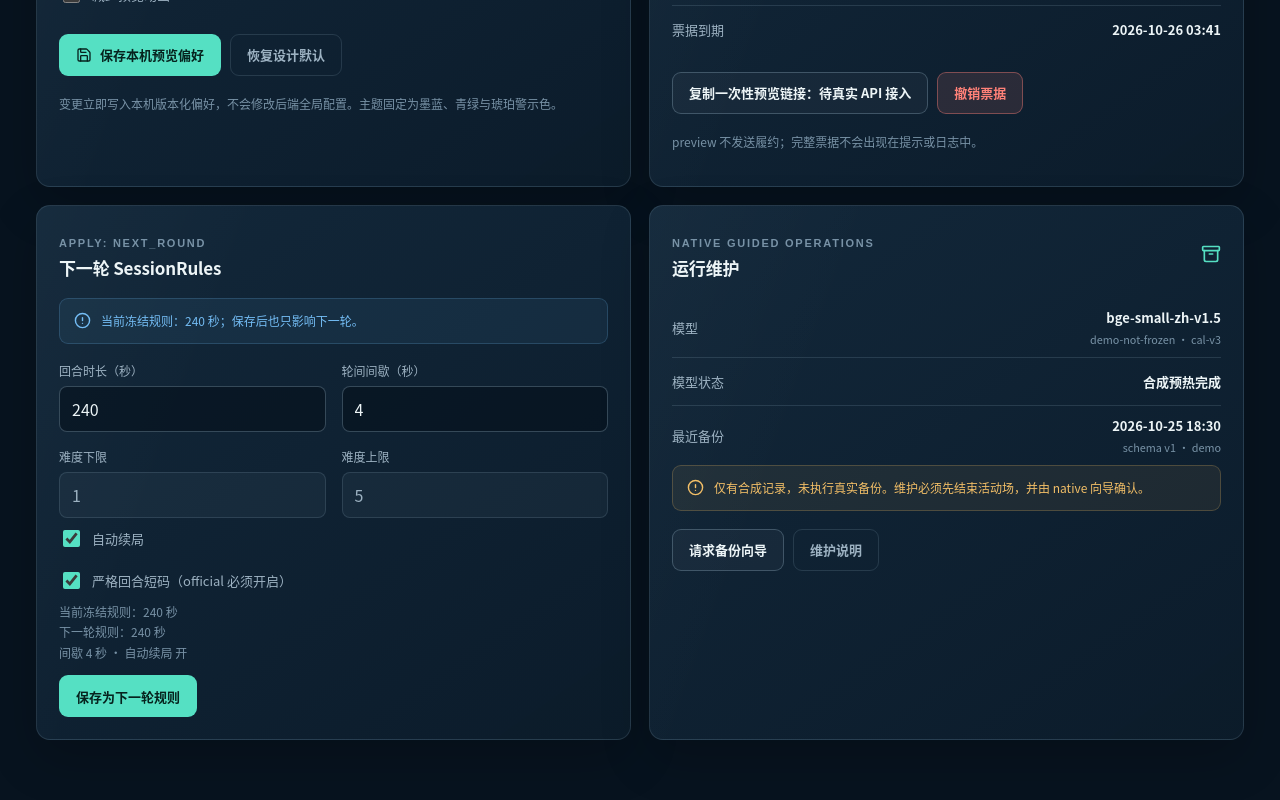
设置与展示预览 › 版本冲突保留编辑草稿并提示重新读取
The image size is (1280, 800).
(page scrolled)
Replace the text in the number field labelled "回合时长（秒）" with "300": (192, 409) x1=59 y1=386 x2=326 y2=432
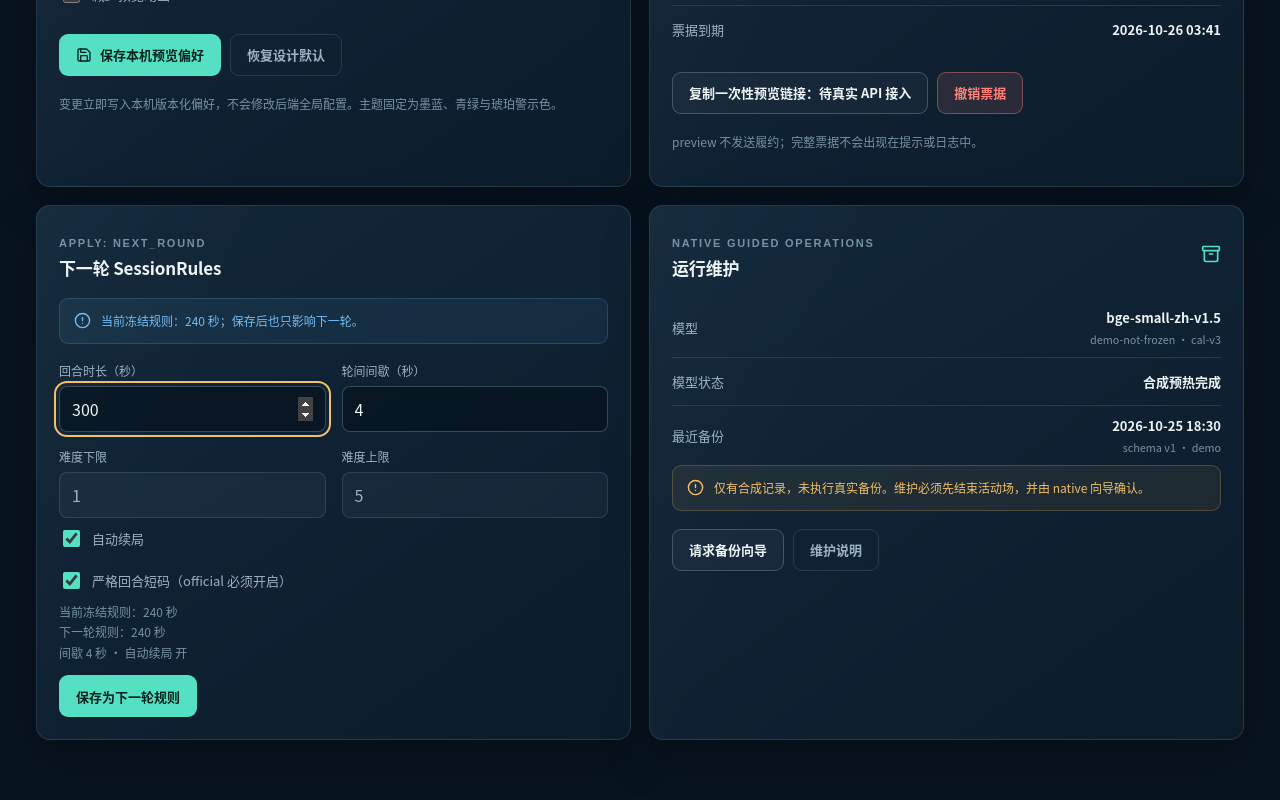
Click the button "保存为下一轮规则": (128, 696) x1=59 y1=675 x2=197 y2=717
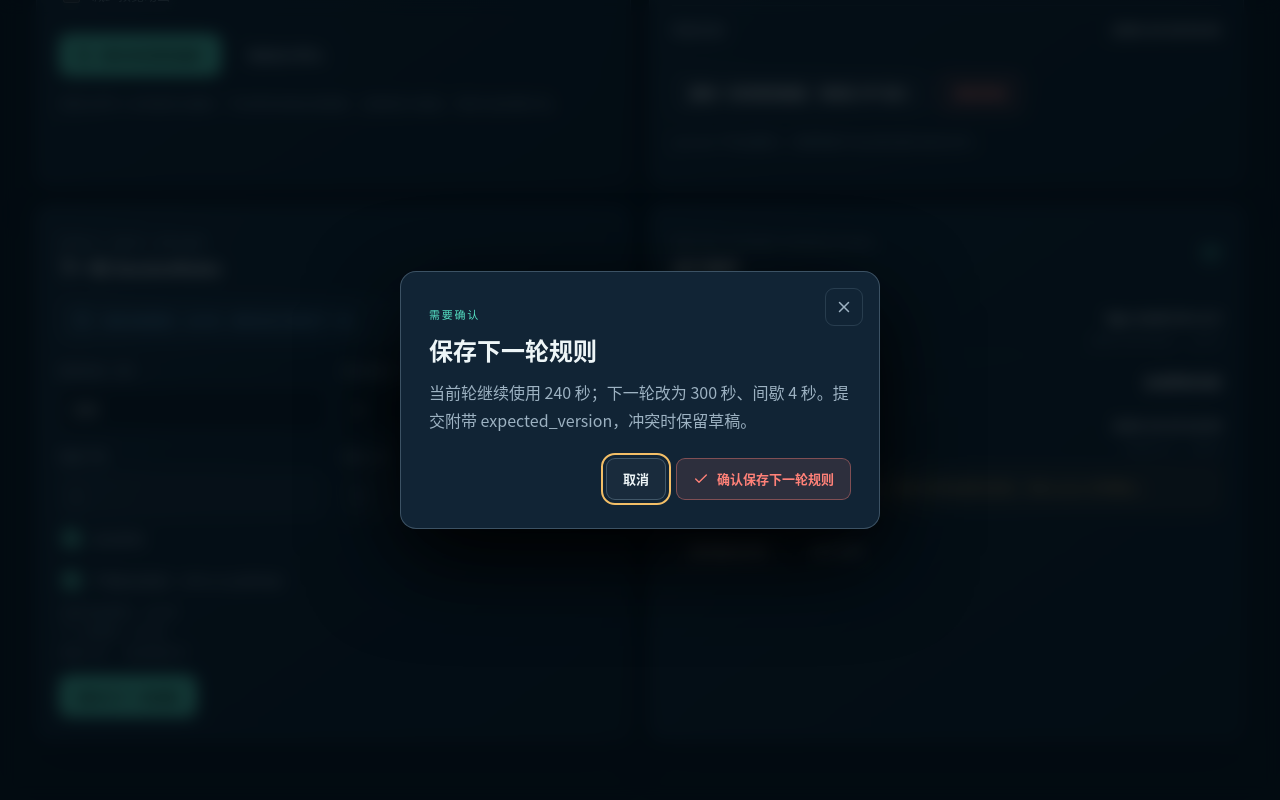
Click the button "确认保存下一轮规则": (764, 479) x1=676 y1=458 x2=851 y2=500
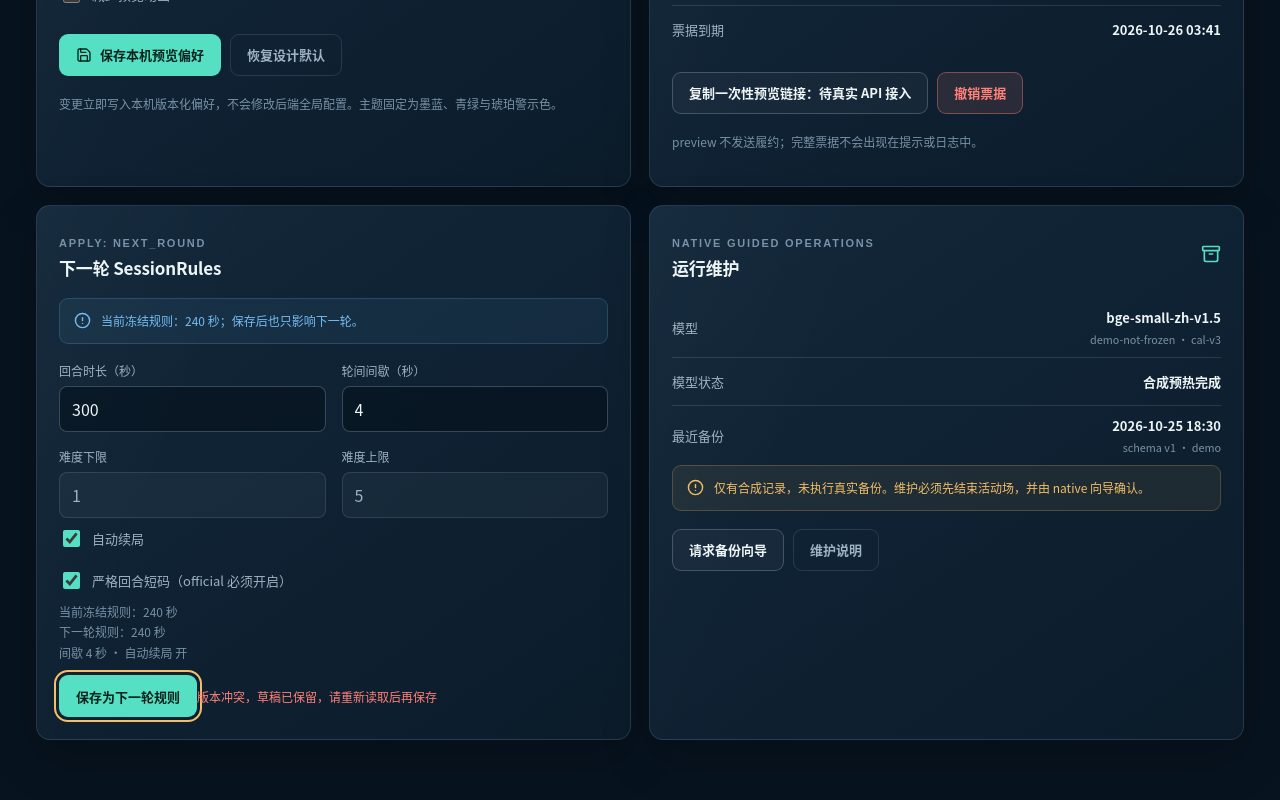
Now the message reads "版本冲突，草稿已保留，请重新读取后再保存", box x1=197 y1=688 x2=437 y2=704
